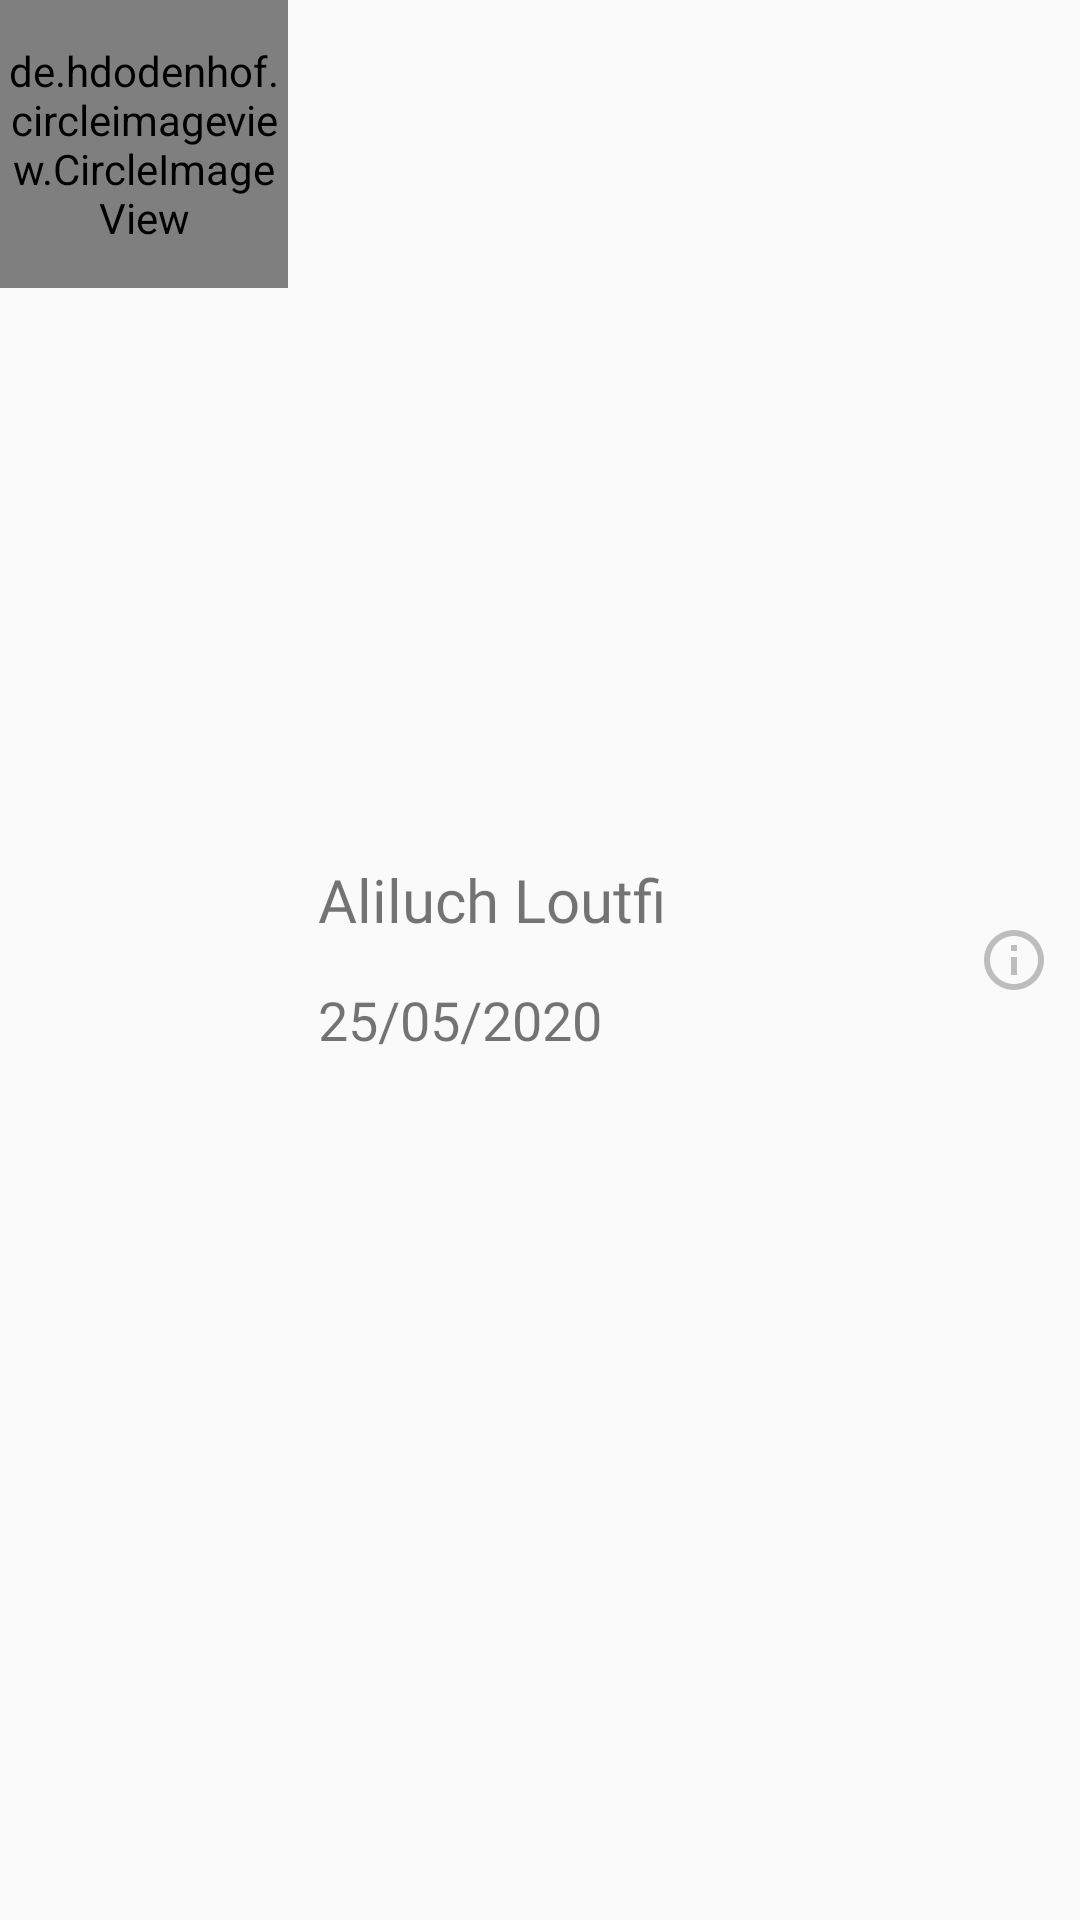

Icon click points for this 1080x1920 phone screenshot, format (x=x, y=y):
info: (x=1014, y=960)
